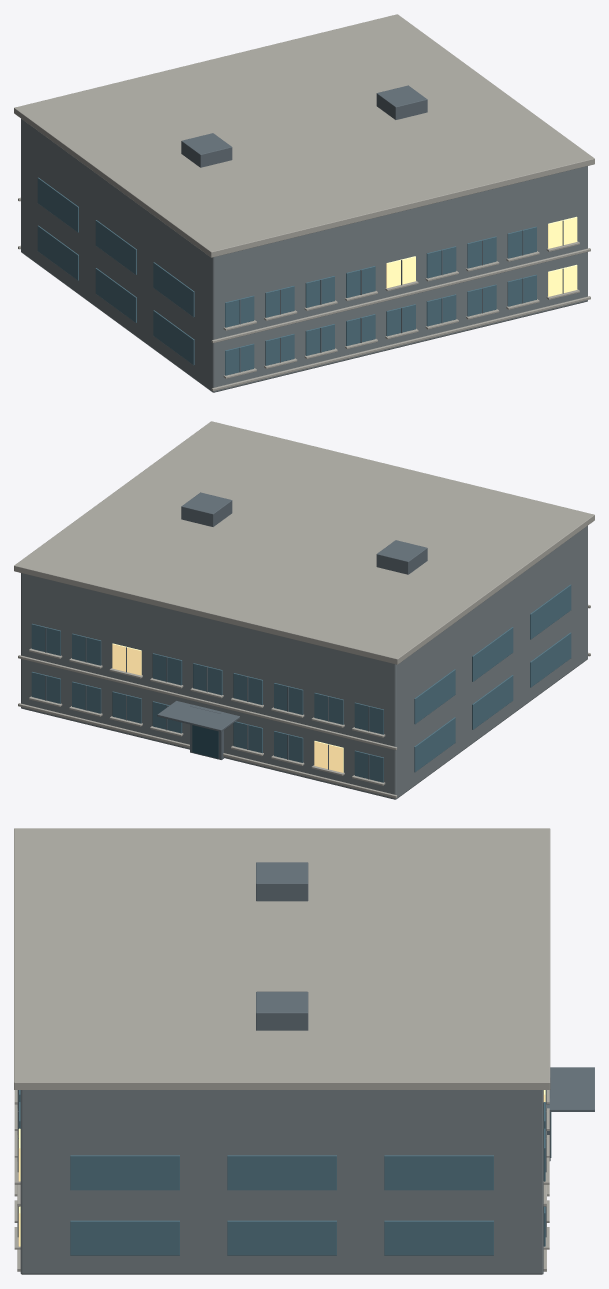
The model's file is Parking.fbx.
3 renders of one model, top to bottom at view 1: azimuth 30°, elevation 25°; view 2: azimuth 150°, elevation 25°; view 3: azimuth 270°, elevation 25°, orthographic. The views are drawn at different scales.
Parts seen in each view (by area): view 1: Body.039; view 2: Body.039; view 3: Body.039.
Part boxes in pixels (x1=…): Body.039: x1=14, y1=14, x2=594, y2=392; Body.039: x1=14, y1=421, x2=594, y2=799; Body.039: x1=14, y1=828, x2=594, y2=1274.
Size of the model in its own units: 27.6 by 10.8 by 26.65.
